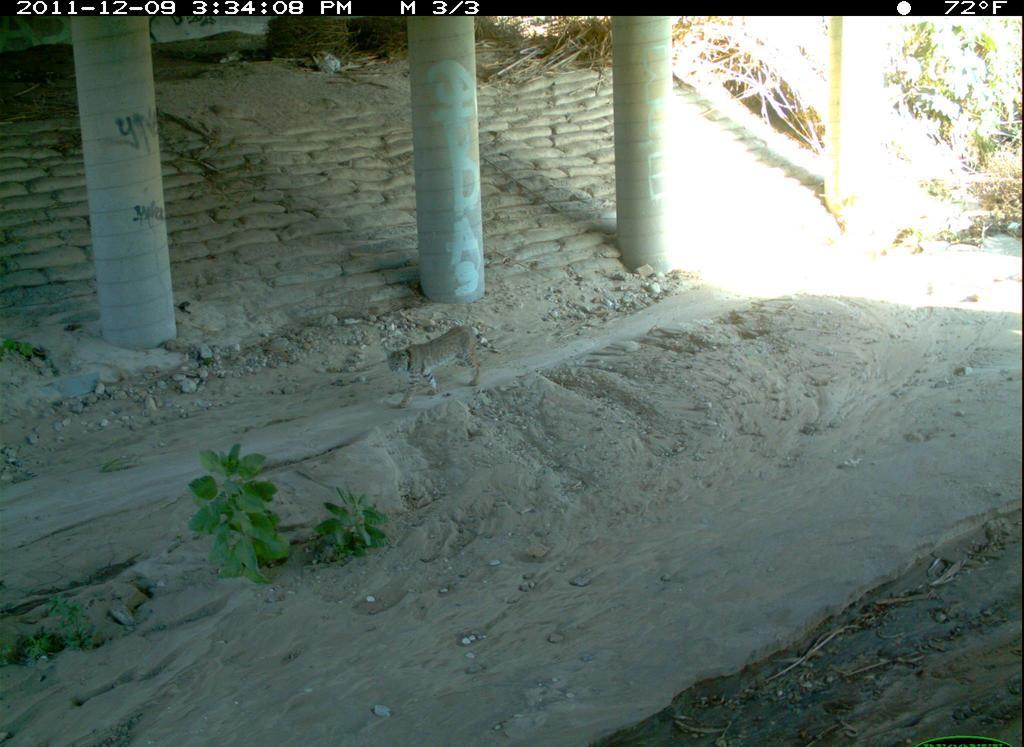bobcat: (762, 638, 977, 747)
